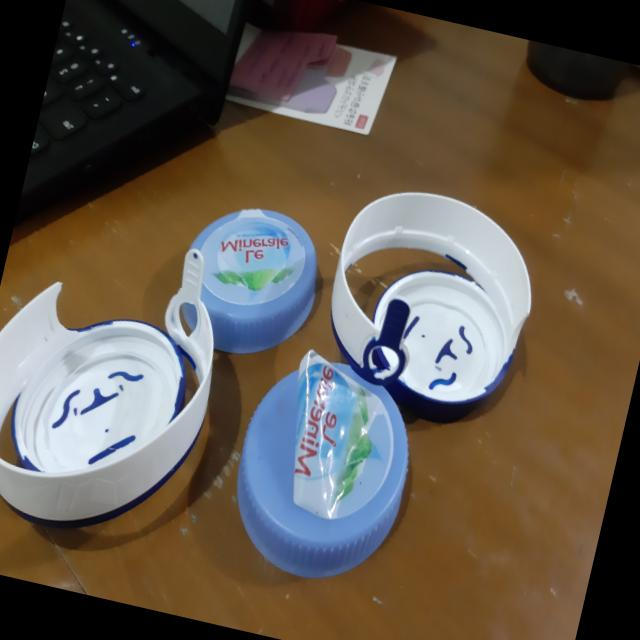TutupGalon: (0, 207, 237, 553), (310, 173, 551, 420), (214, 351, 428, 595), (170, 188, 331, 360)
